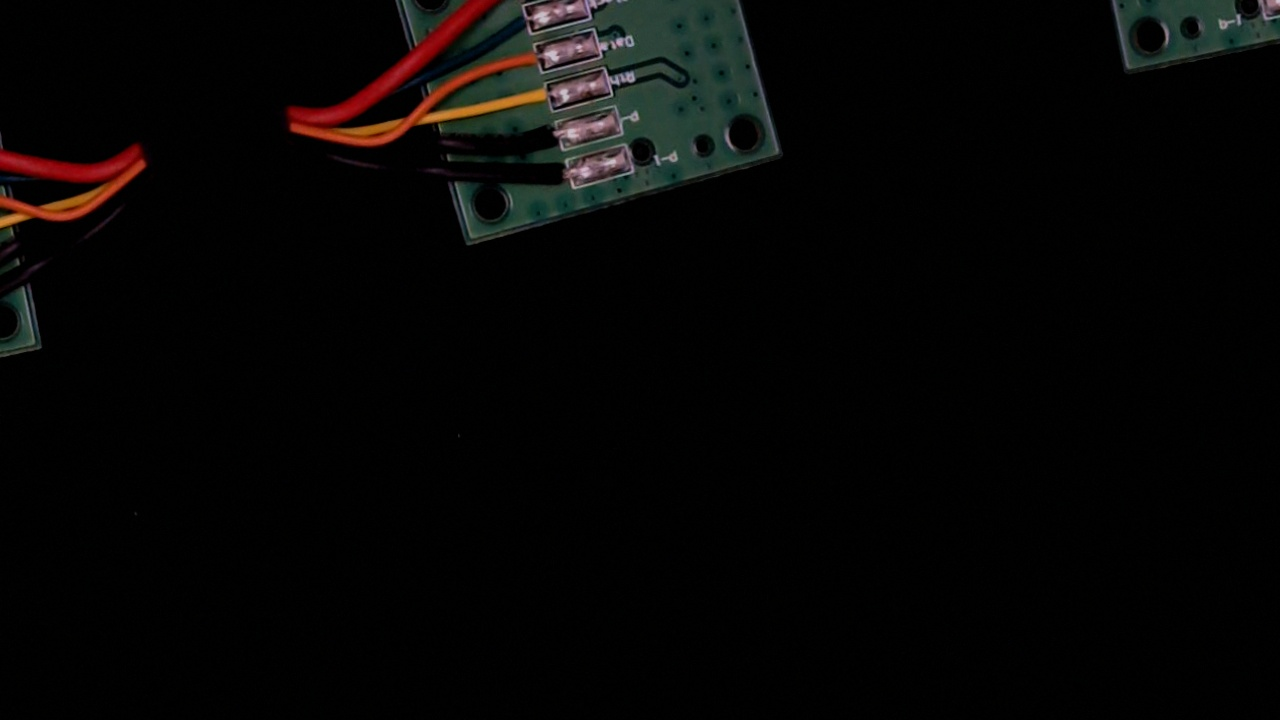Black: (508, 116, 580, 163)
Black1: (516, 156, 590, 201)
Green: (477, 1, 549, 46)
Orange: (492, 40, 557, 84)
Red: (466, 0, 538, 5)
Yellow: (493, 77, 569, 123)
